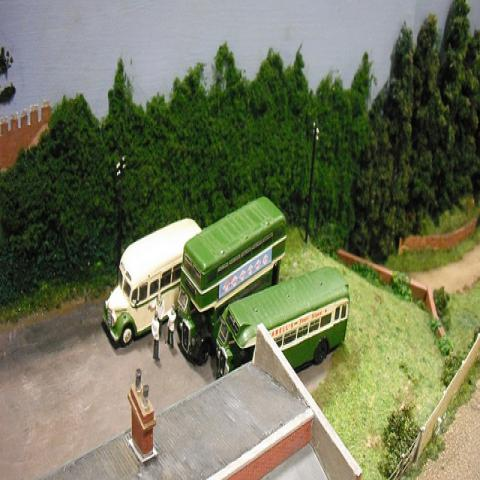bus: (175, 190, 287, 372), (216, 261, 350, 378), (103, 217, 201, 344)
